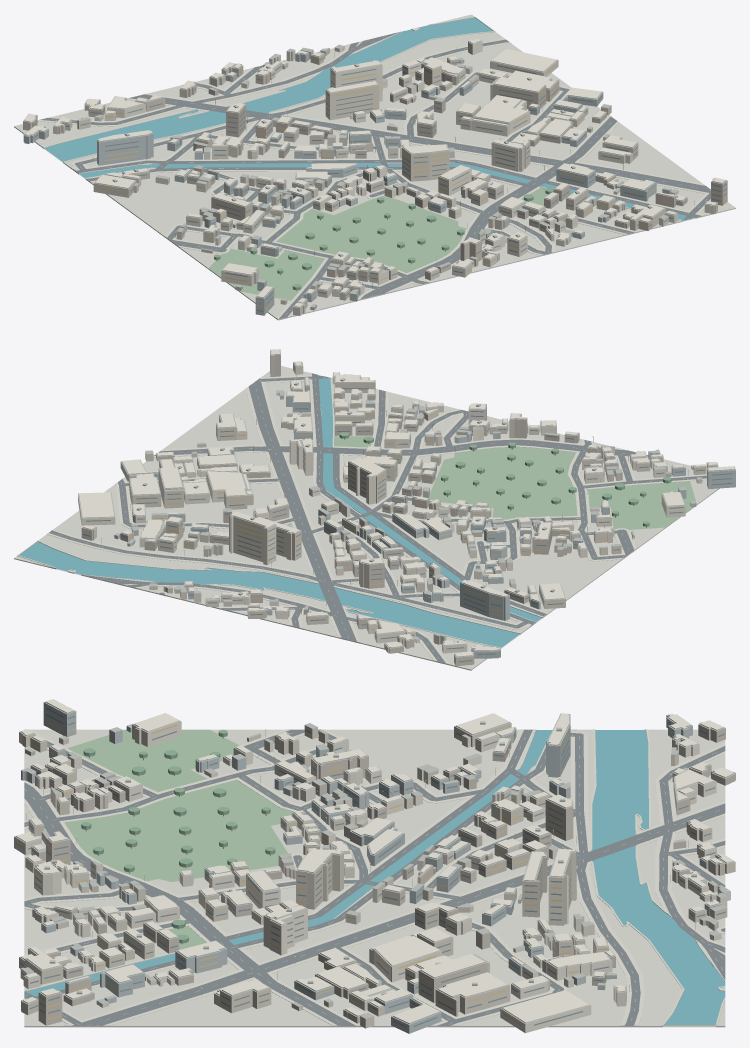
The picture shows the model from 3 angles, top to bottom: view 1: azimuth 30°, elevation 25°; view 2: azimuth 150°, elevation 25°; view 3: azimuth 270°, elevation 25°; orthographic projection. The views are drawn at different scales.
Visible parts, largest first — view 1: city; view 2: city; view 3: city.
Boxes of the visible parts, bbox=[...] form: city: bbox=[14, 14, 735, 320]; city: bbox=[14, 349, 735, 670]; city: bbox=[14, 699, 735, 1033].
Size of the model in its own units: 526 by 40.75 by 515.
